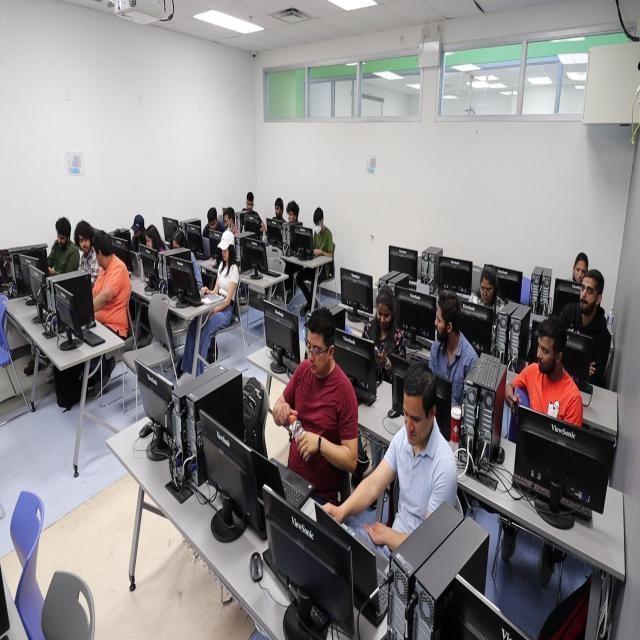Looking away: (403, 391, 425, 446), (306, 328, 326, 376), (536, 335, 552, 373), (376, 302, 392, 332), (434, 305, 446, 342), (480, 278, 493, 306), (574, 258, 586, 284), (94, 246, 104, 267), (78, 236, 90, 253), (58, 232, 66, 248), (224, 214, 231, 231), (145, 234, 153, 248), (274, 205, 282, 218), (314, 220, 322, 233), (208, 220, 218, 230), (222, 244, 228, 260), (246, 200, 253, 211), (288, 212, 295, 222)
Looking forward: (579, 277, 595, 312)
